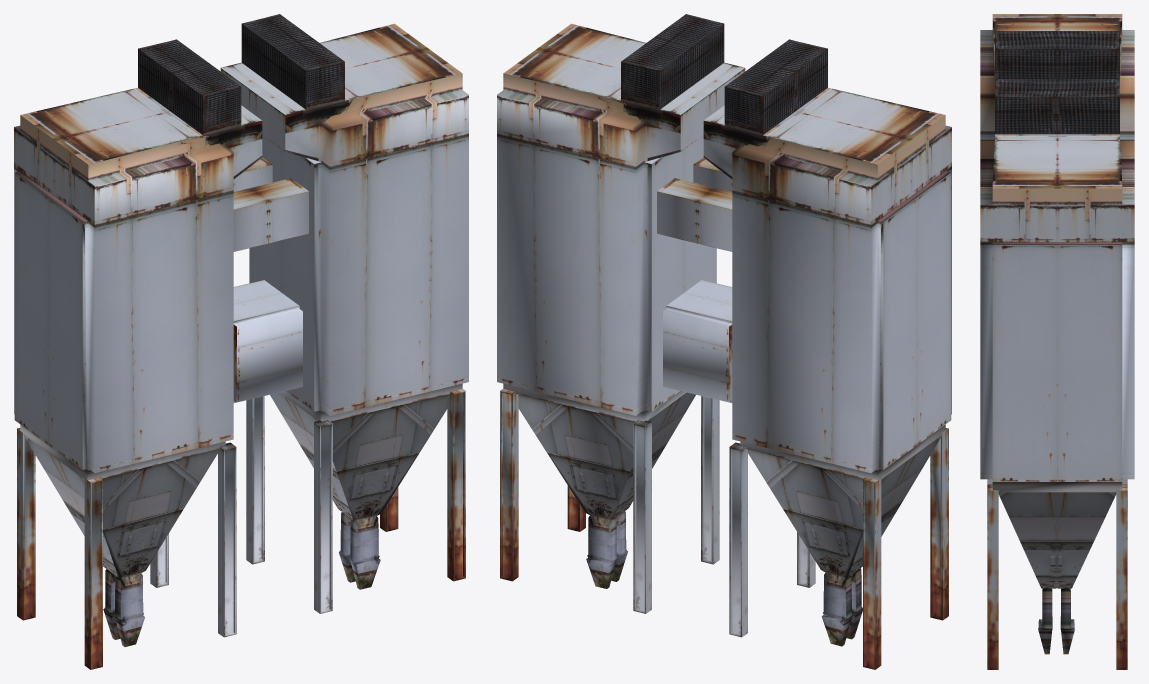
Rendered from industrial20.obj.
The picture shows the model from 3 angles, left to right: view 1: azimuth 30°, elevation 25°; view 2: azimuth 150°, elevation 25°; view 3: azimuth 270°, elevation 25°; orthographic projection. The views are drawn at different scales.
Parts seen in each view (by area): view 1: industrial20; view 2: industrial20; view 3: industrial20.
Boxes of the visible parts, <box> form: industrial20: <box>14,14,468,669</box>; industrial20: <box>497,14,951,669</box>; industrial20: <box>980,14,1134,669</box>.
Size of the model in its own units: 90.48 by 125 by 32.82.
Materials: 1 (1 with a texture image).
